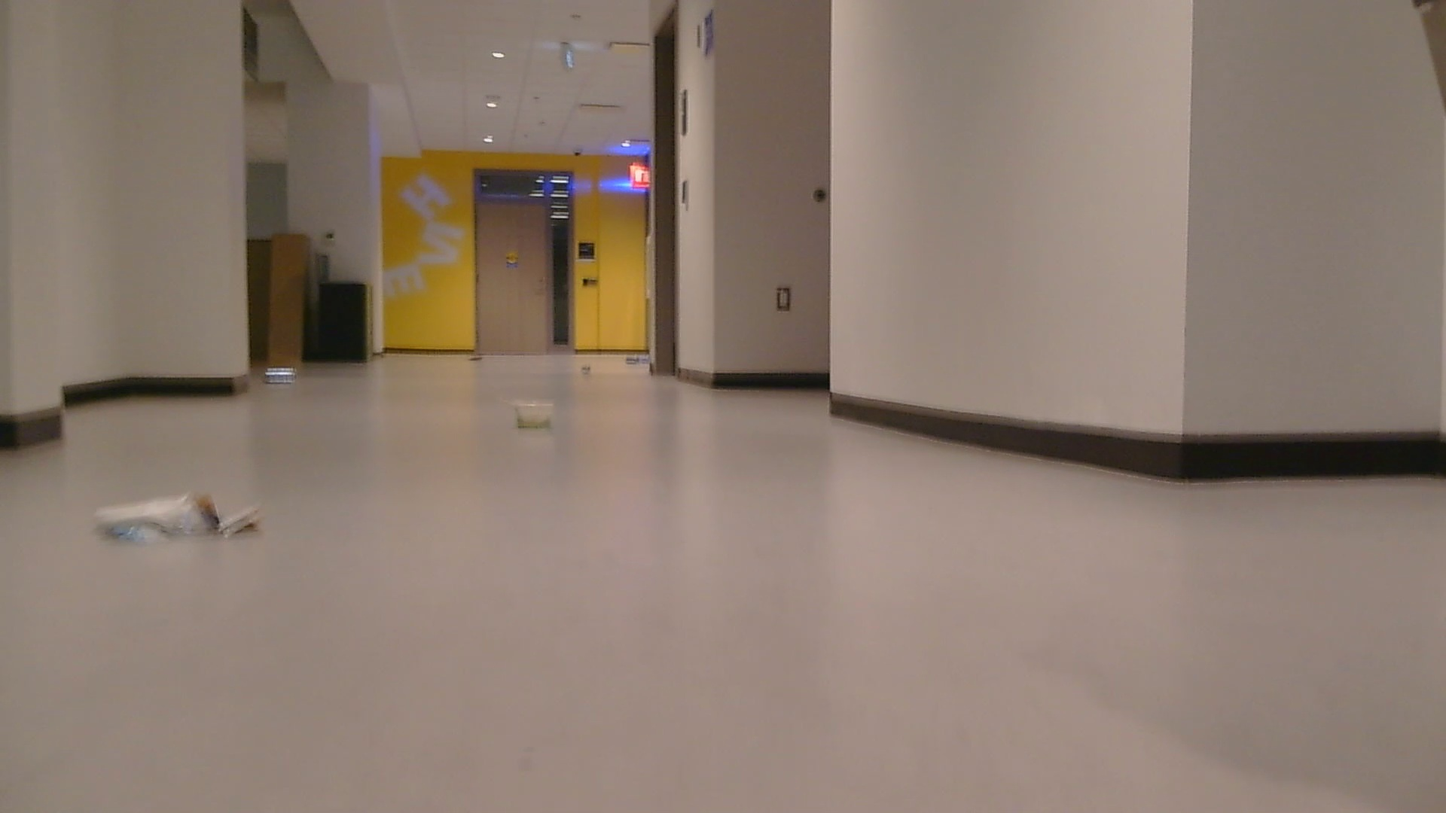carton: (92, 489, 276, 563), (511, 385, 571, 423), (264, 364, 300, 386), (462, 348, 493, 368), (621, 352, 662, 365), (581, 364, 602, 386)
